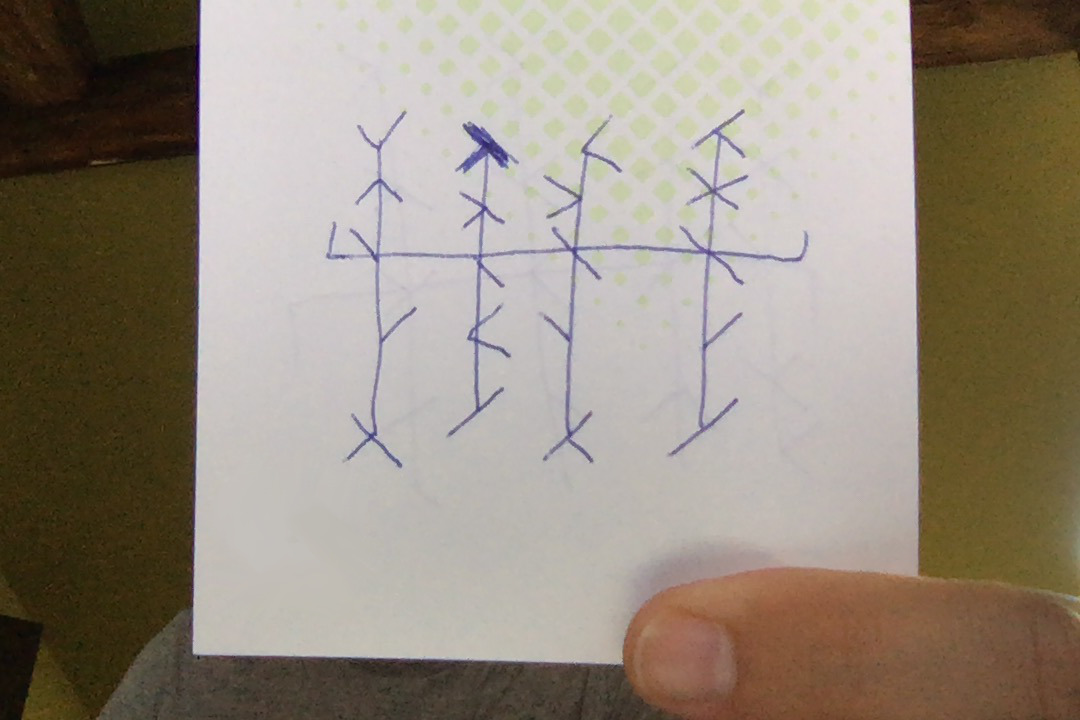Bar: (537, 115, 623, 463), (668, 109, 748, 456), (343, 110, 418, 468), (446, 122, 521, 437)
Barcode: (325, 109, 810, 469)
End: (725, 232, 809, 263)
Start: (325, 222, 348, 261)
